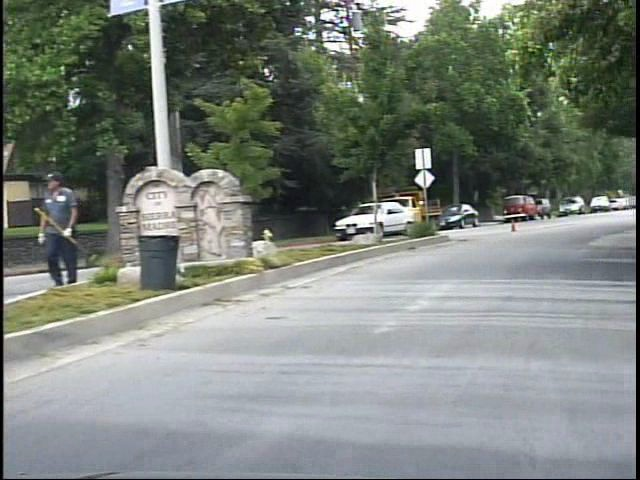person: (39, 167, 94, 292)
